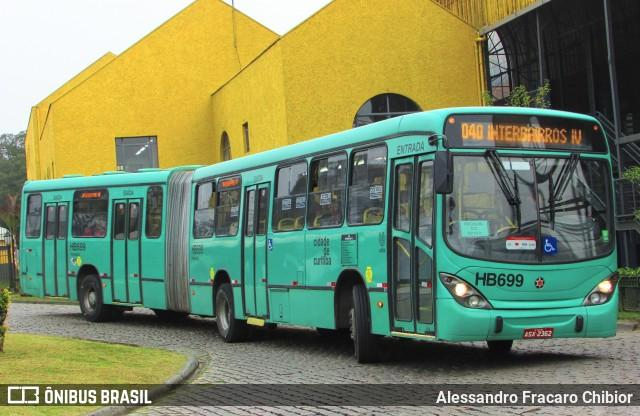INTERBAIRROS IV: (484, 121, 586, 148)
